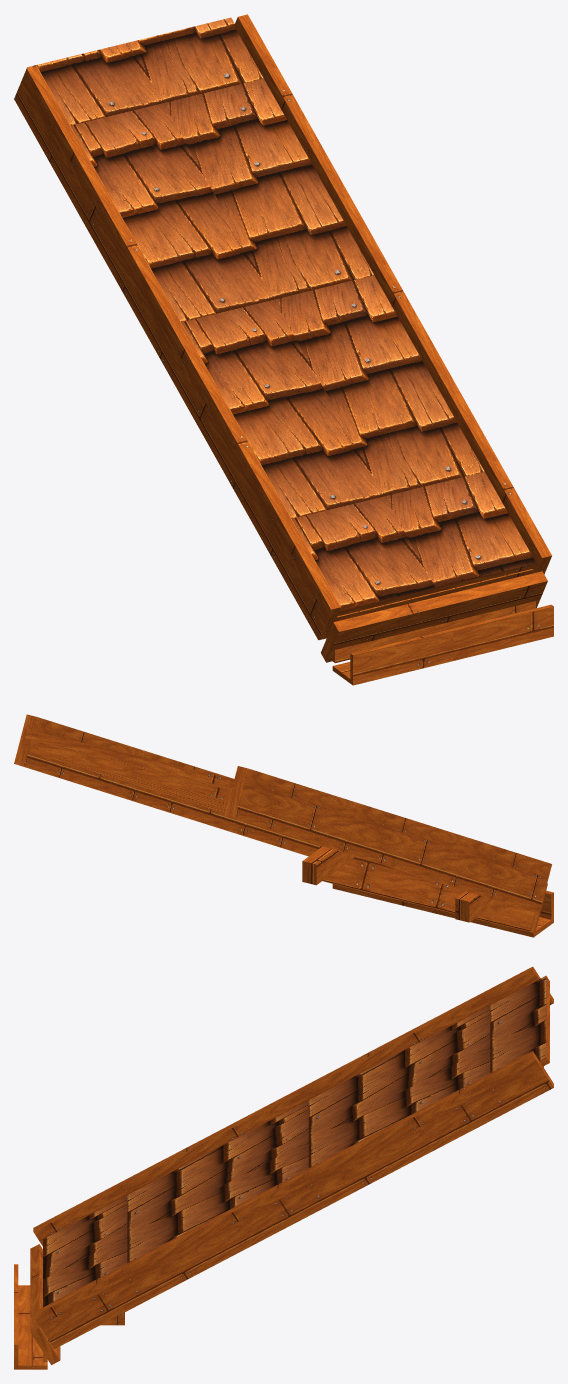
Rendered from Roof_EdgePanel_1m.fbx.
3 views of the same model, one above another, from view 1: azimuth 30°, elevation 25°; view 2: azimuth 150°, elevation 25°; view 3: azimuth 270°, elevation 25° (orthographic). The views are drawn at different scales.
Visible parts, largest first — view 1: Roof_EdgePanel_1m; view 2: Roof_EdgePanel_1m; view 3: Roof_EdgePanel_1m.
Boxes of the visible parts, x1,y1,x2,y2 form: Roof_EdgePanel_1m: (14,14,553,685); Roof_EdgePanel_1m: (14,714,553,937); Roof_EdgePanel_1m: (14,966,553,1369).
Size of the model in its own units: 1 by 1.68 by 2.58.
